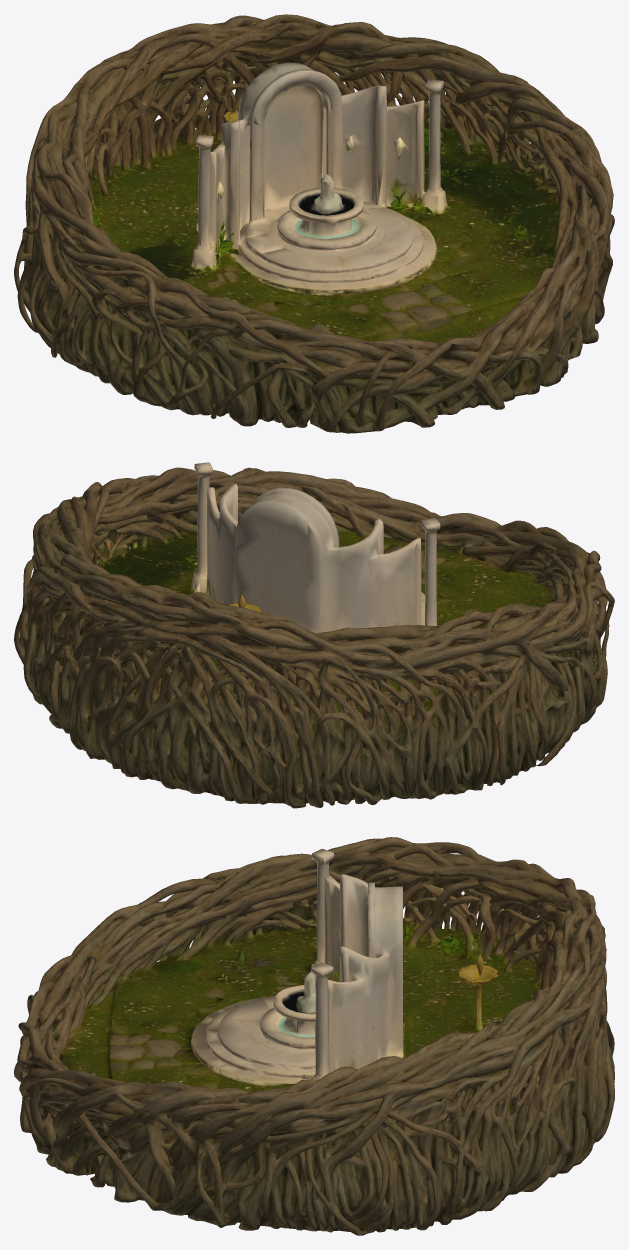
3 views of the same model, one above another, from view 1: azimuth 30°, elevation 25°; view 2: azimuth 150°, elevation 25°; view 3: azimuth 270°, elevation 25° (orthographic). The views are drawn at different scales.
Parts seen in each view (by area): view 1: model; view 2: model; view 3: model.
Part boxes in pixels (left/top/right/bottom): model: left=14, top=14, right=614, bottom=433; model: left=14, top=462, right=614, bottom=808; model: left=14, top=837, right=614, bottom=1235.
Size of the model in its own units: 68.81 by 27.93 by 67.59.
1 material, 1 textured.
